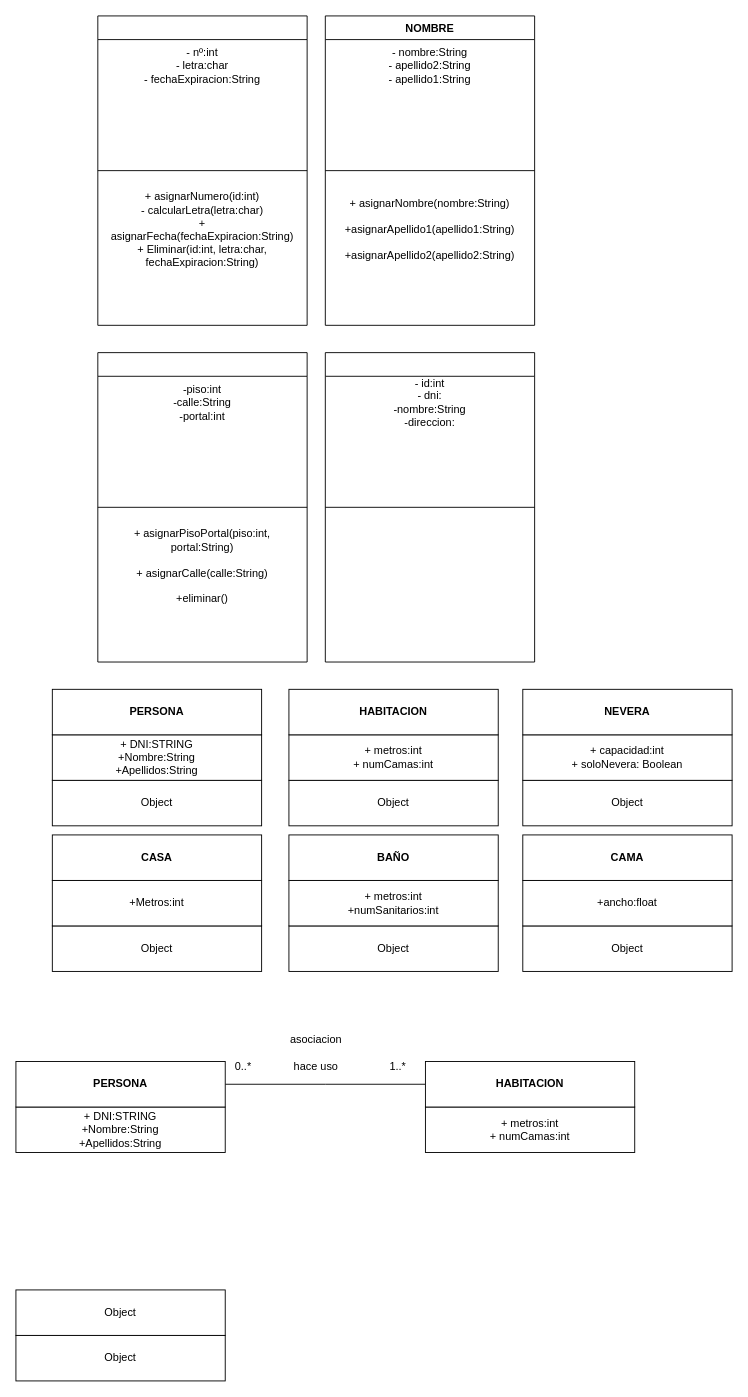
This 748x1397 diagram has some shape labels left out. The shapes that lost their labels are listed below. From the top down, each one's box as (x1, y1, x2, y2) in pixels, then its label:
(97, 15, 307, 325): DNI
(97, 352, 307, 662): DIRECCION
(324, 352, 535, 662): USUARIO
